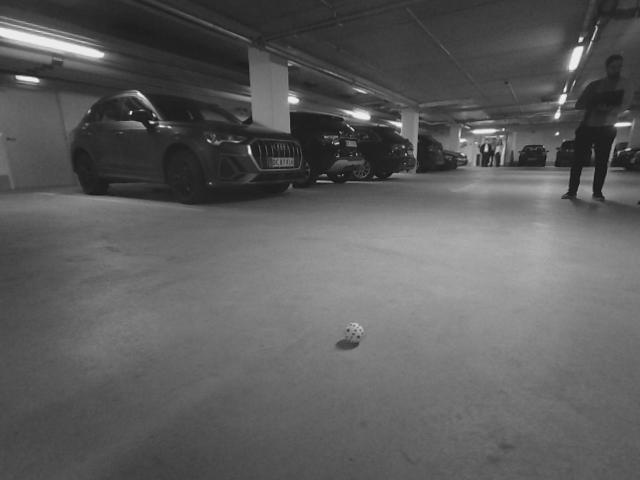dogtoy: (331, 316, 374, 349)
